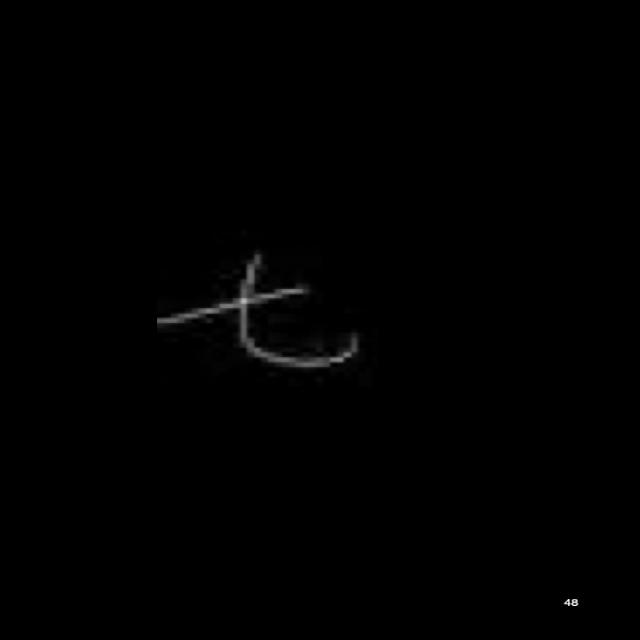7 -seven-: (137, 242, 376, 371)
